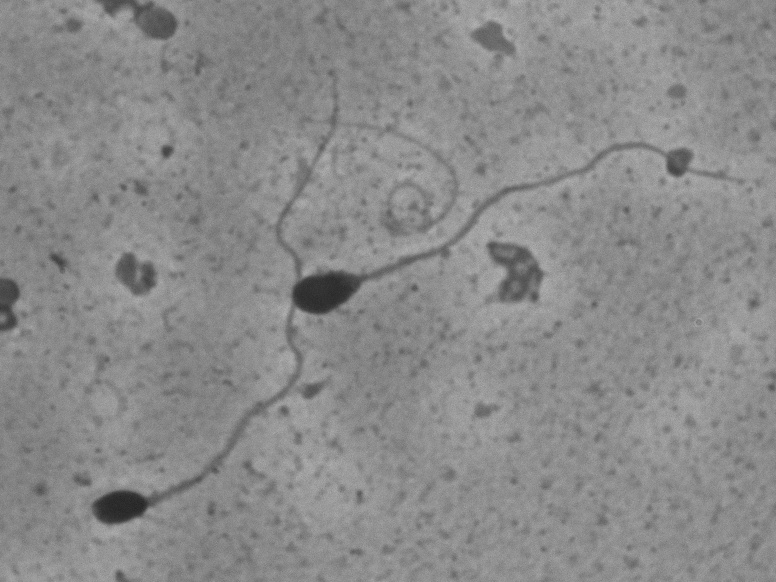Abnormal: (282, 123, 755, 325)
Normal: (83, 56, 357, 546)
